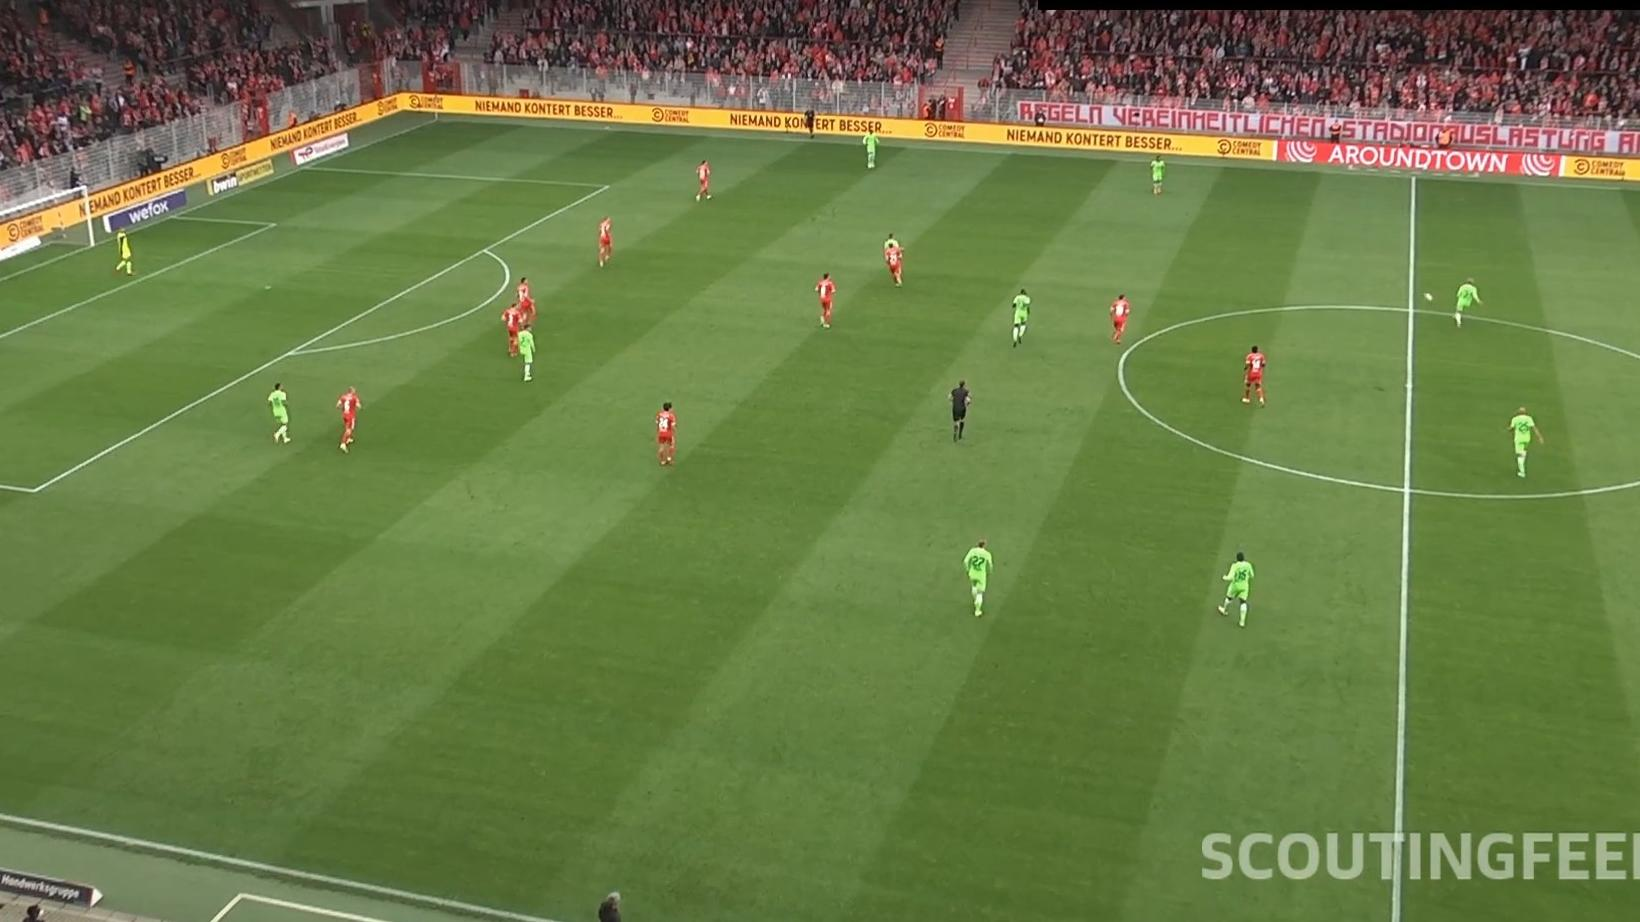ball: (1421, 292, 1435, 303)
